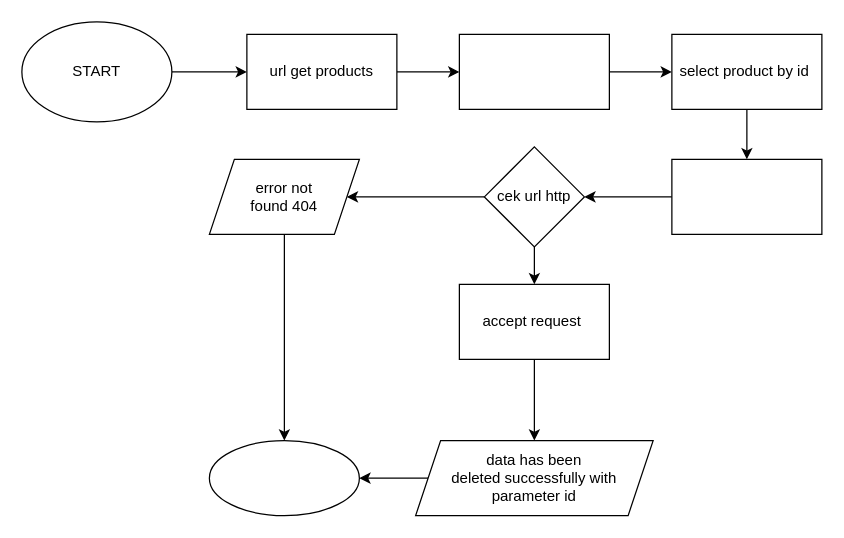
The diagram is 844 pixels wide and 538 high, and some of its shapes have lost their labels. Each missing label, with the centre of its shape:
"END" goes at point (283, 477).
"HTTP delete with form data parameter id" goes at point (746, 196).
"view field in products" goes at point (533, 71).
